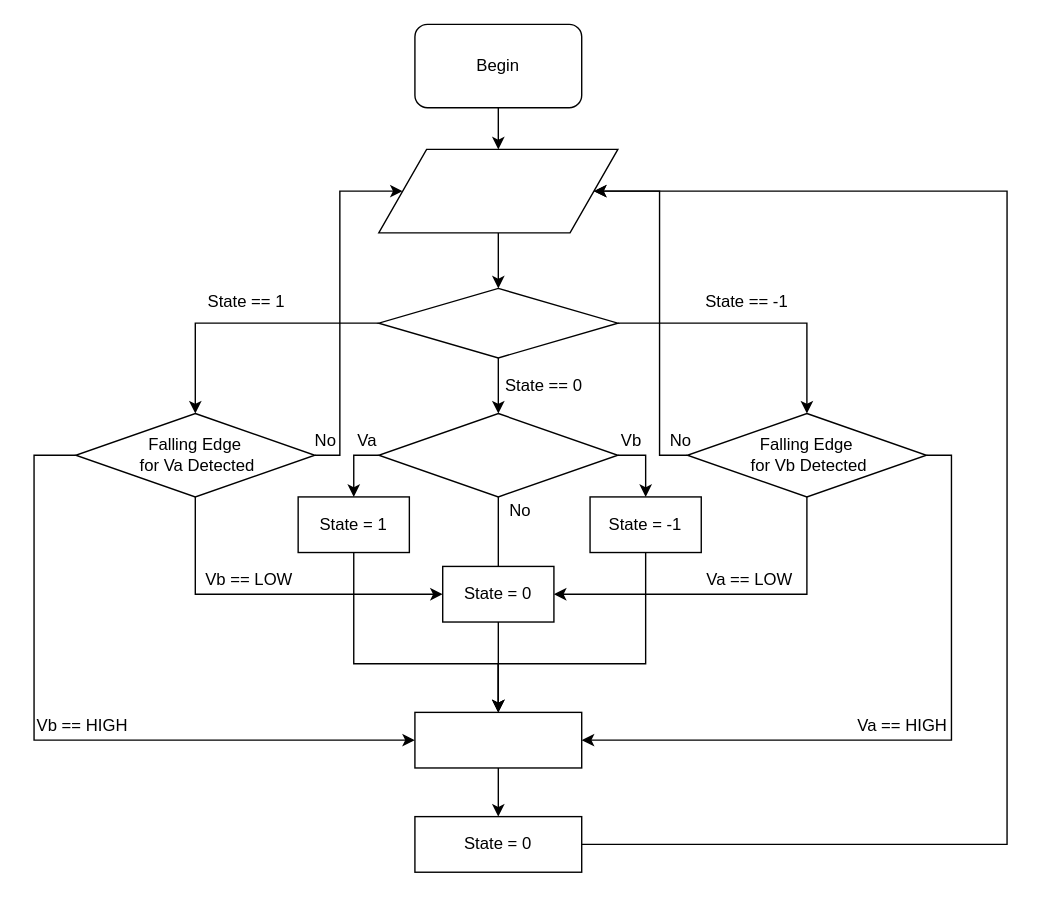
Some shapes in this 1043 by 897 pixel diagram are drawn without their labels. The centre of each missing label's shape, as x and y in pixels:
Counter += State: point 498,739
Receive Input: point 497,190
Rising Edge Detected: point 497,454
State: point 497,322
